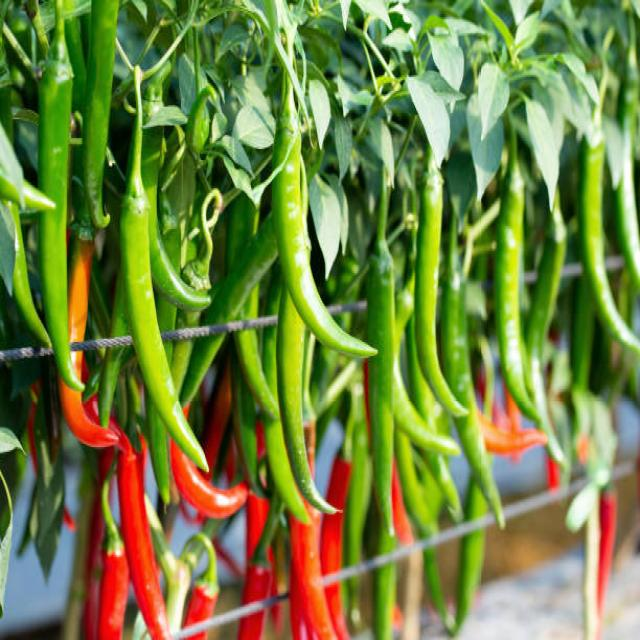Ripe: (56, 233, 122, 449), (118, 431, 171, 639), (289, 504, 338, 639), (170, 442, 248, 518), (184, 532, 219, 627), (476, 410, 548, 455), (98, 548, 129, 640)
Unripe: (120, 66, 208, 469), (272, 75, 374, 356), (441, 210, 504, 526), (179, 214, 278, 407), (39, 0, 82, 391), (415, 148, 469, 417), (278, 287, 330, 511), (368, 167, 395, 535), (261, 326, 306, 522), (84, 0, 118, 229), (150, 203, 211, 310), (11, 202, 51, 346), (147, 392, 169, 503)
